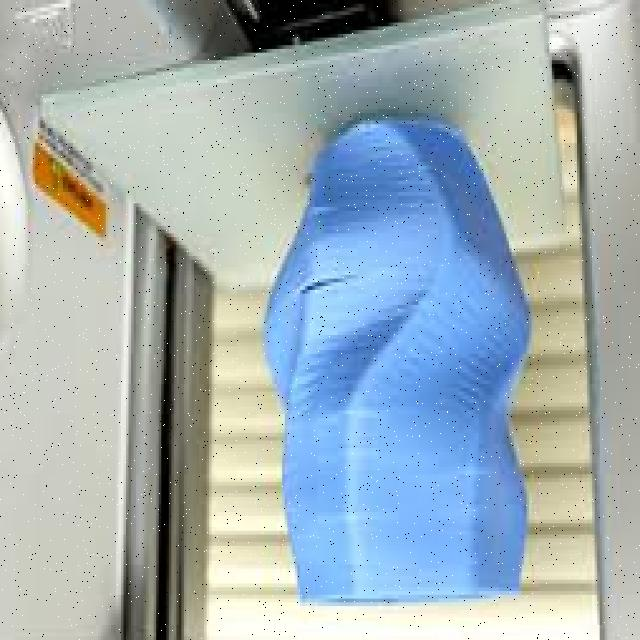cracks: (294, 257, 359, 310)
